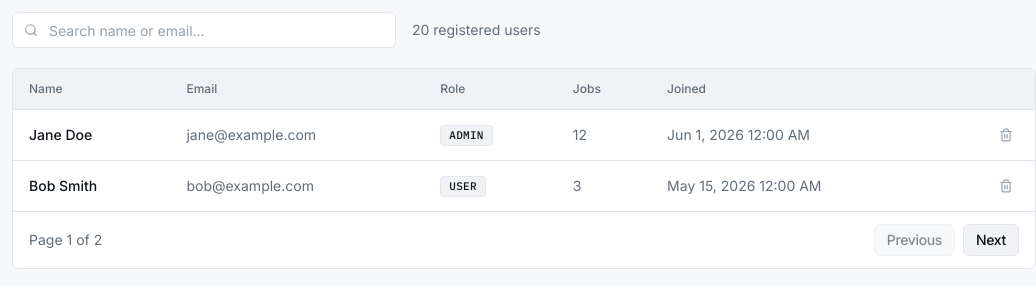
Test: AdminUsersPage › pagination › disables Previous on the first page and Next on the last
The image size is (1036, 286).
Expected: the text "Jane Doe" is shown, [13,110,170,160]
Expected: the button "Previous" is disabled, [874,224,955,256]
Click the button "Next". click: (991, 240)
box: [963,224,1019,256]
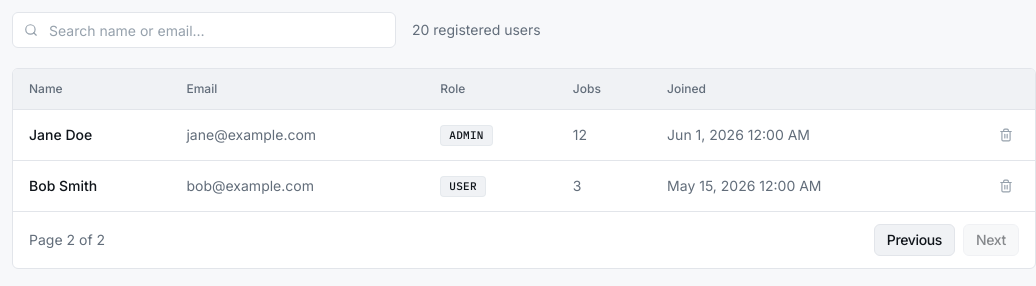
Expected: the text "Jane Doe" is shown, [13,110,170,160]
Expected: the button "Previous" is enabled, [874,224,955,256]
Expected: the button "Next" is disabled, [963,224,1019,256]
